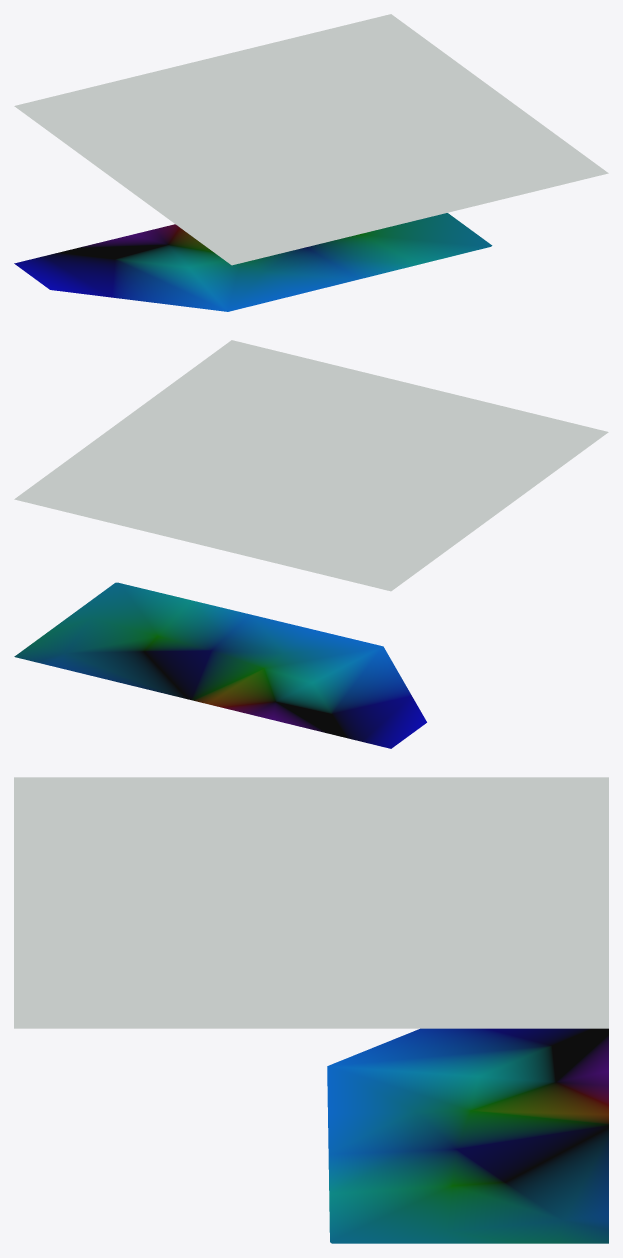
The picture shows the model from 3 angles, top to bottom: view 1: azimuth 30°, elevation 25°; view 2: azimuth 150°, elevation 25°; view 3: azimuth 270°, elevation 25°; orthographic projection. The views are drawn at different scales.
Parts seen in each view (by area): view 1: G:\FFXIV-MapTools\exports\w1f5\bg\ffxiv\wil_w1\fld\w1f5\bgpl (×2); view 2: G:\FFXIV-MapTools\exports\w1f5\bg\ffxiv\wil_w1\fld\w1f5\bgpl (×2); view 3: G:\FFXIV-MapTools\exports\w1f5\bg\ffxiv\wil_w1\fld\w1f5\bgpl (×2).
Boxes of the visible parts, x1,y1,x2,y2 form: G:\FFXIV-MapTools\exports\w1f5\bg\ffxiv\wil_w1\fld\w1f5\bgpl (×2): (14,14,608,311); G:\FFXIV-MapTools\exports\w1f5\bg\ffxiv\wil_w1\fld\w1f5\bgpl (×2): (14,340,608,748); G:\FFXIV-MapTools\exports\w1f5\bg\ffxiv\wil_w1\fld\w1f5\bgpl (×2): (14,777,608,1243).
Bounding box in the file's own units: 128 × 51.06 × 128.
